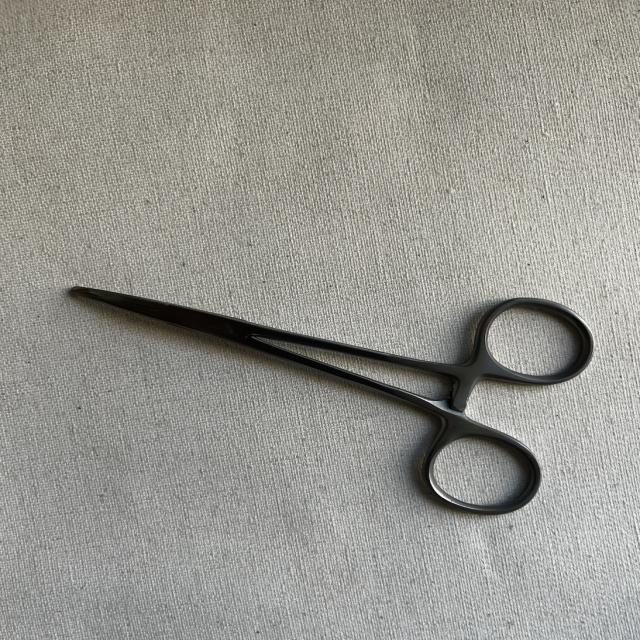scissor: (53, 276, 603, 537)
